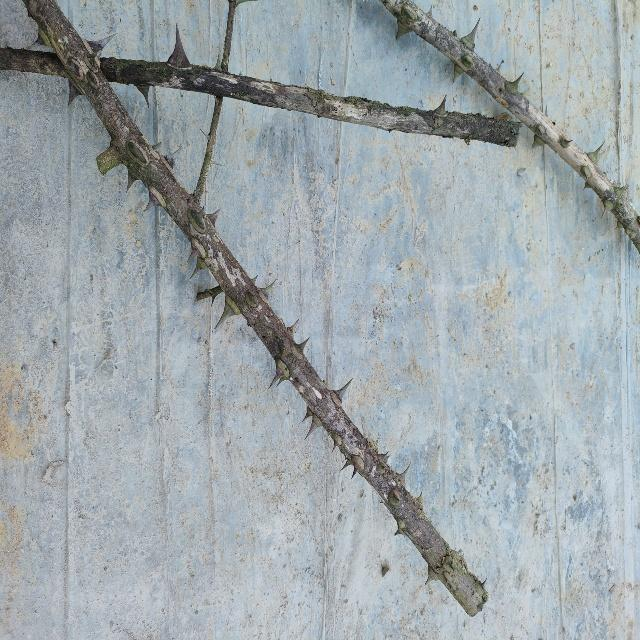branch: (0, 0, 490, 618), (381, 0, 640, 239)
